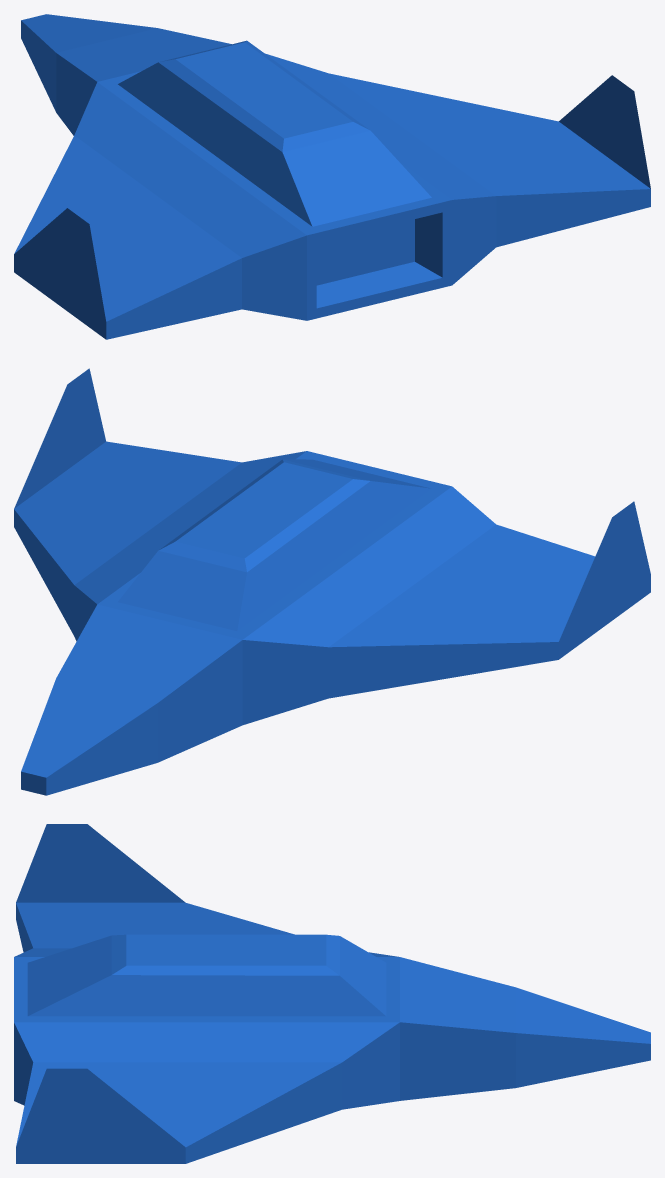
Rendered from nave.obj.
The picture shows the model from 3 angles, top to bottom: view 1: azimuth 30°, elevation 25°; view 2: azimuth 150°, elevation 25°; view 3: azimuth 270°, elevation 25°; orthographic projection. The views are drawn at different scales.
Visible parts, largest first — view 1: Nave; view 2: Nave; view 3: Nave.
Part boxes in pixels (x1,y1,x2,y2): Nave: [14, 14, 650, 339]; Nave: [14, 368, 650, 795]; Nave: [14, 824, 650, 1163].
Size of the model in its own units: 6 by 1.39 by 6.6.
